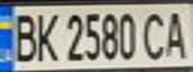0: (118, 8, 142, 61)
2: (60, 9, 84, 62)
5: (81, 9, 103, 62)
8: (100, 9, 121, 61)
A: (160, 7, 193, 60)
B: (9, 9, 39, 63)
C: (139, 8, 172, 61)
K: (30, 8, 60, 63)
